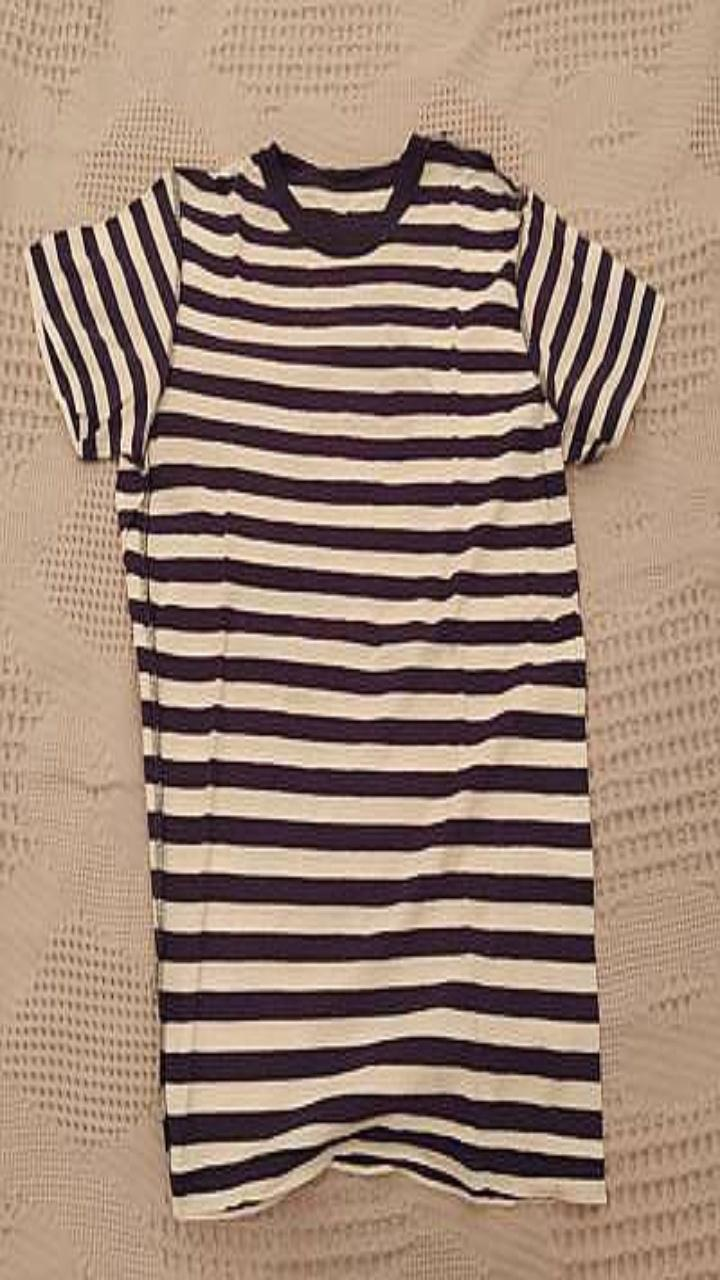T-Shirt: (24, 132, 663, 1218)
